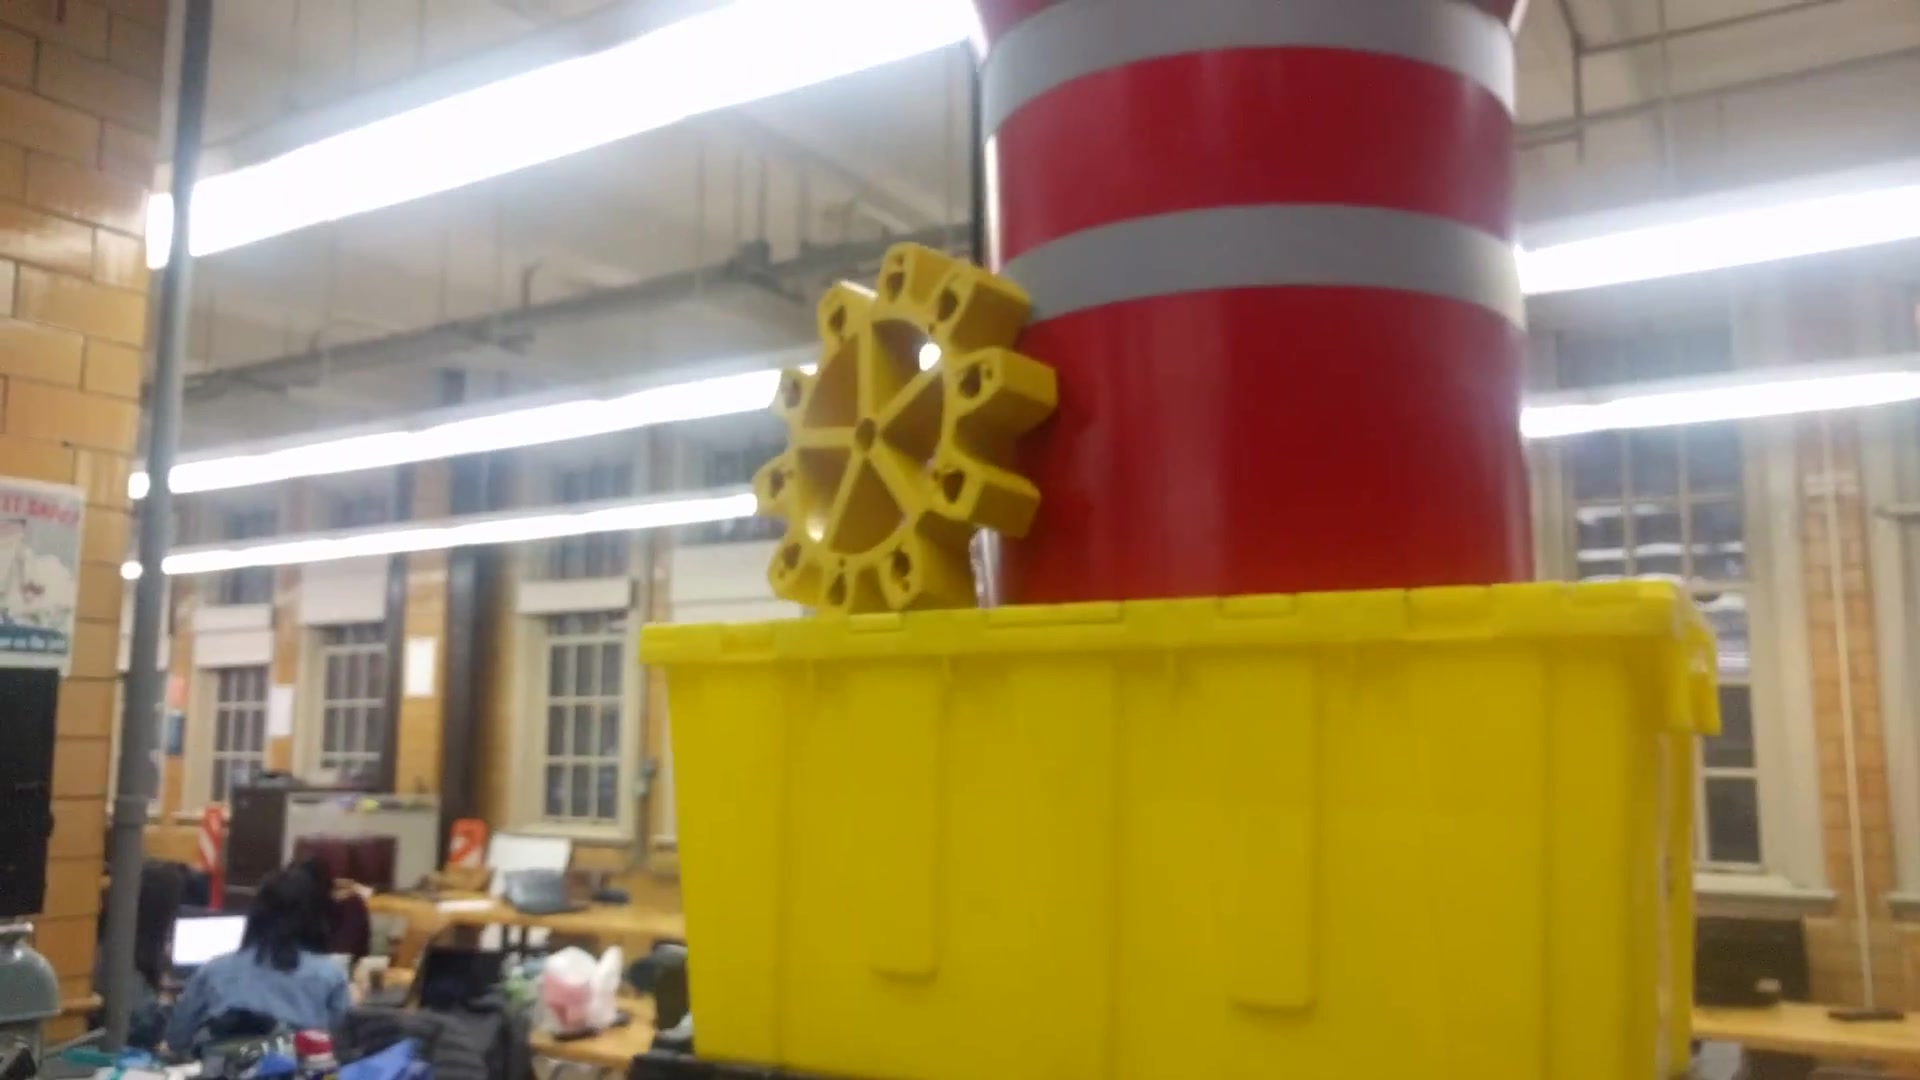gear: (733, 229, 1081, 650)
